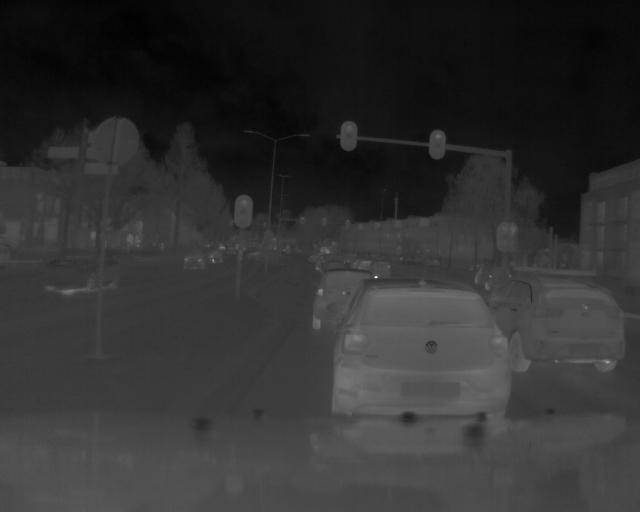car: (322, 280, 523, 425), (481, 275, 626, 383), (308, 268, 387, 335), (183, 247, 209, 272)
